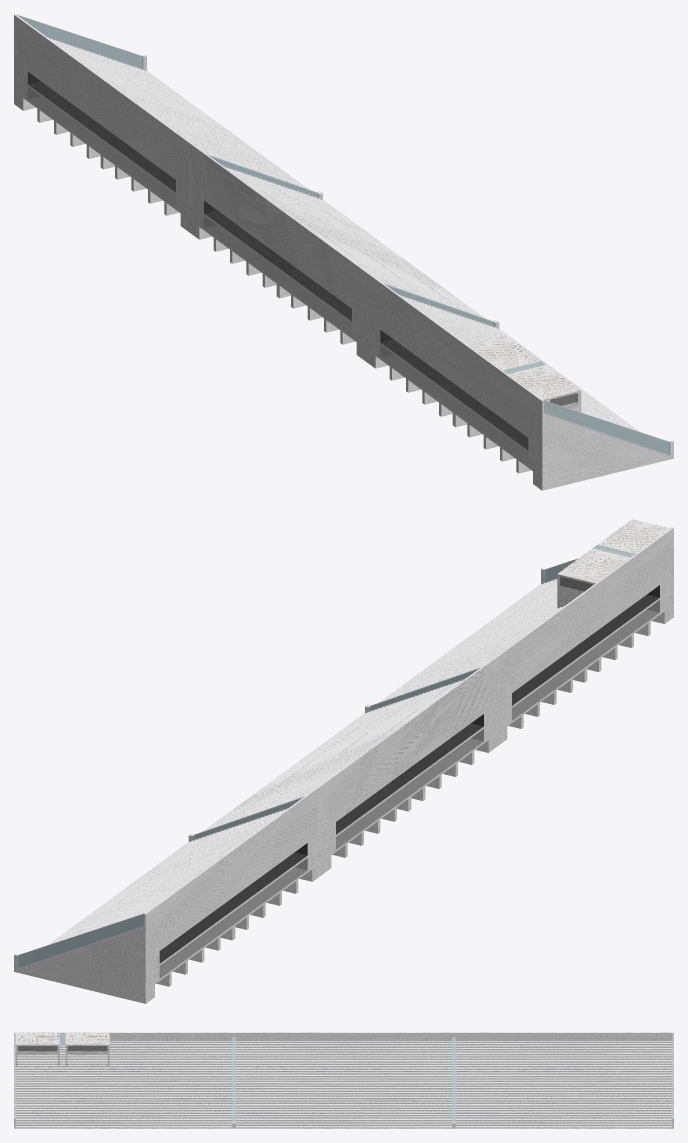
The model's file is Grandstand1.fbx.
3 views of the same model, one above another, from view 1: azimuth 30°, elevation 25°; view 2: azimuth 150°, elevation 25°; view 3: azimuth 270°, elevation 25° (orthographic). The views are drawn at different scales.
Parts seen in each view (by area): view 1: Component_19_1, Component_4_1; view 2: Component_19_1, Component_4_1; view 3: Component_19_1, Component_4_1.
Boxes of the visible parts, left/top/right/bottom form: Component_19_1: left=14, top=14, right=673, bottom=490; Component_4_1: left=468, top=335, right=581, bottom=424; Component_19_1: left=14, top=527, right=673, bottom=1003; Component_4_1: left=557, top=519, right=670, bottom=608; Component_19_1: left=14, top=1032, right=673, bottom=1128; Component_4_1: left=15, top=1033, right=109, bottom=1065.
Bounding box in the file's own units: 32.4 × 21.02 × 225.
